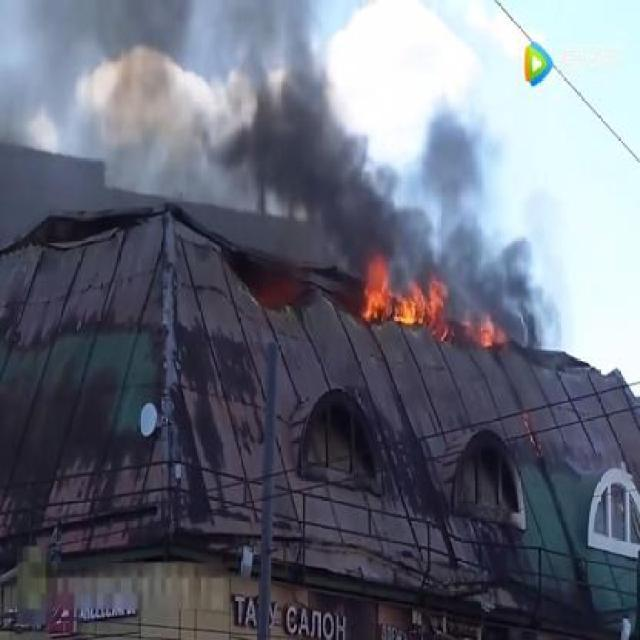Fire: (356, 258, 506, 352)
Smoke: (254, 70, 526, 252), (514, 254, 551, 351)
